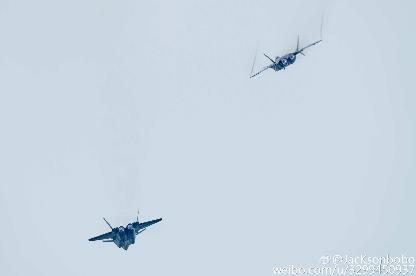F4: (88, 206, 162, 249), (250, 34, 322, 77)
